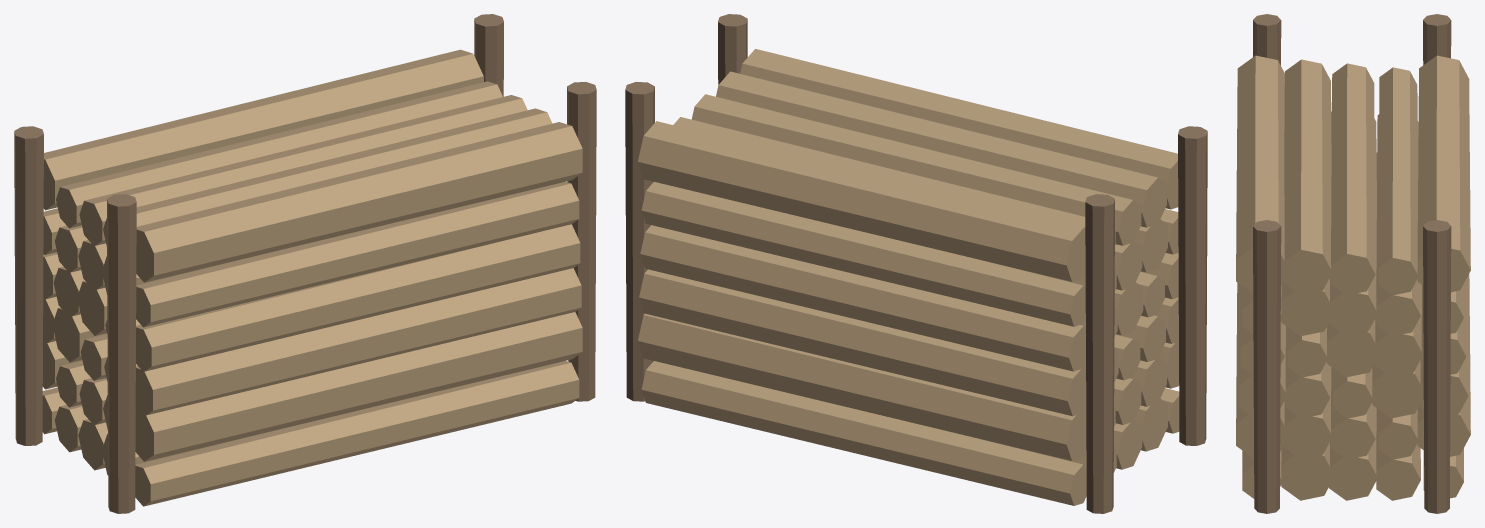
Rendered from korean-hanok-village-and-street-firewood-stack-ef44023d__38078.glb.
3 views of the same model, side by side, from view 1: azimuth 30°, elevation 25°; view 2: azimuth 150°, elevation 25°; view 3: azimuth 270°, elevation 25° (orthographic). The views are drawn at different scales.
Visible parts, largest first — view 1: firewood-stack; view 2: firewood-stack; view 3: firewood-stack.
Boxes of the visible parts, x1,y1,x2,y2 form: firewood-stack: [14, 14, 596, 513]; firewood-stack: [625, 14, 1207, 513]; firewood-stack: [1236, 14, 1470, 513].
Bounding box in the file's own units: 1.82 × 1.1 × 0.8282.
